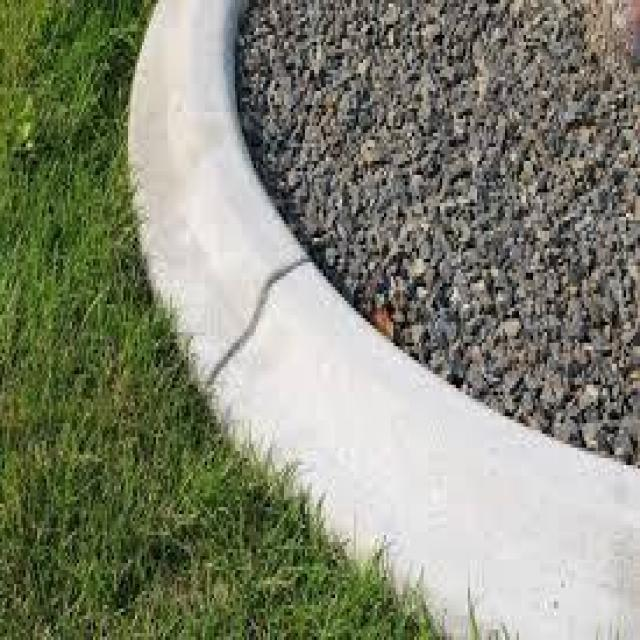bump: (119, 96, 483, 566)
